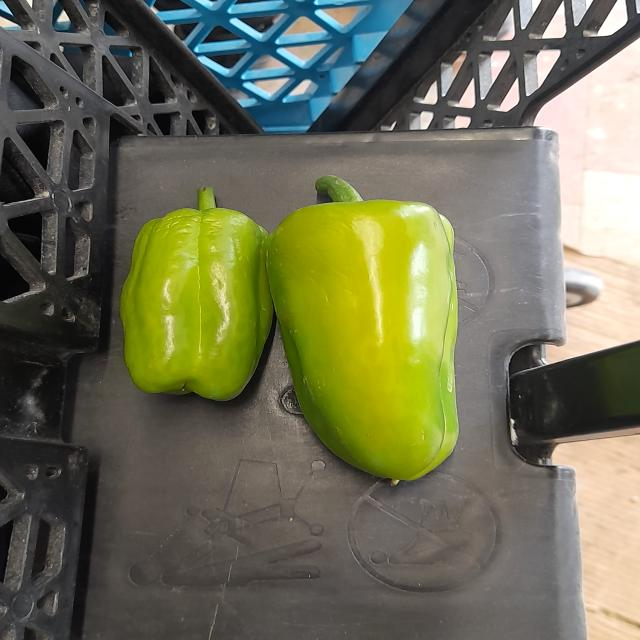bell pepper: (263, 160, 478, 491), (100, 165, 280, 408)
